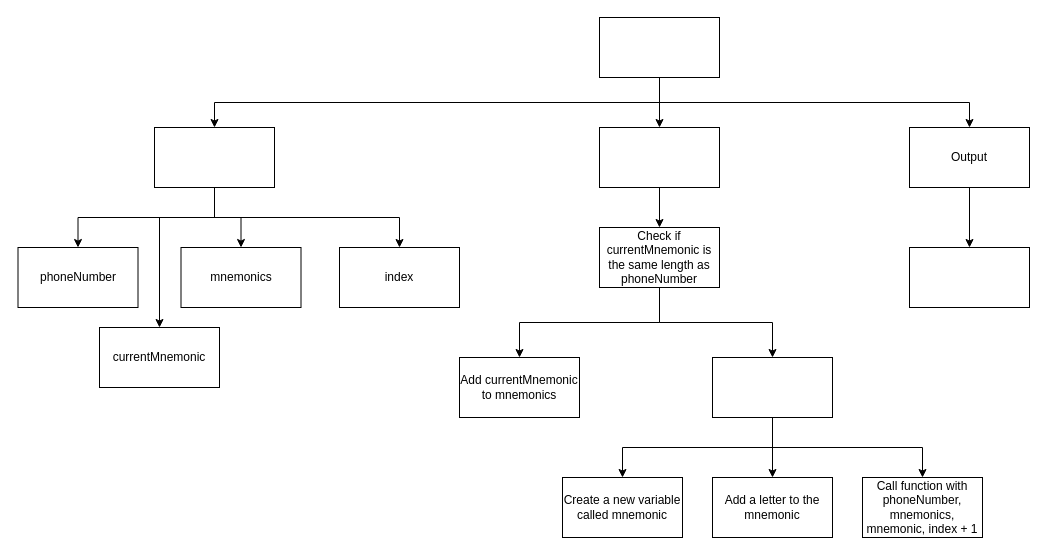
Image size: 1047x555. Some labels were removed from this diagram. Each missing label, with the box of its shape:
Input: (154, 126, 274, 188)
listMnemonics: (598, 16, 720, 78)
Loop through letters to generate mnemonics: (712, 356, 832, 418)
Process: (598, 126, 720, 188)
Return mnemonics array: (908, 246, 1030, 308)
